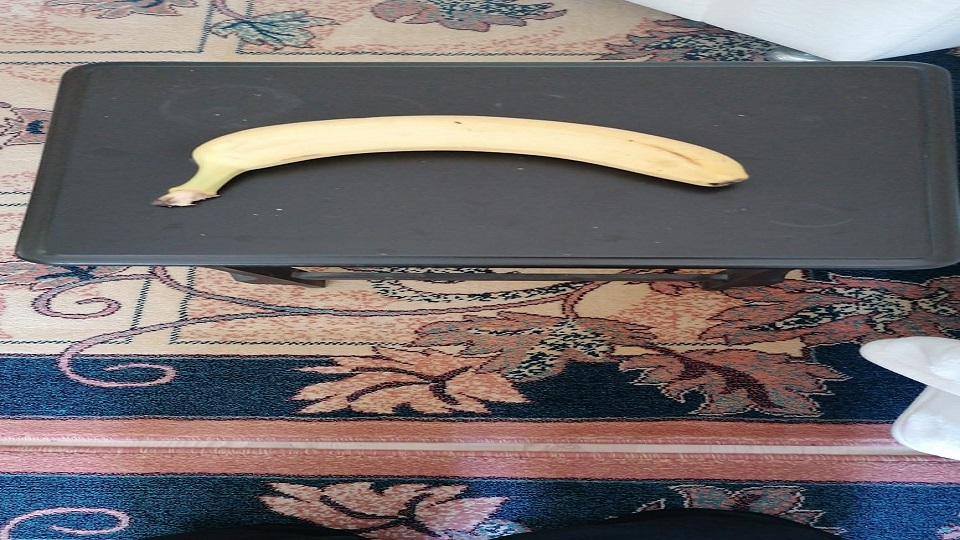muz: (159, 113, 751, 207)
